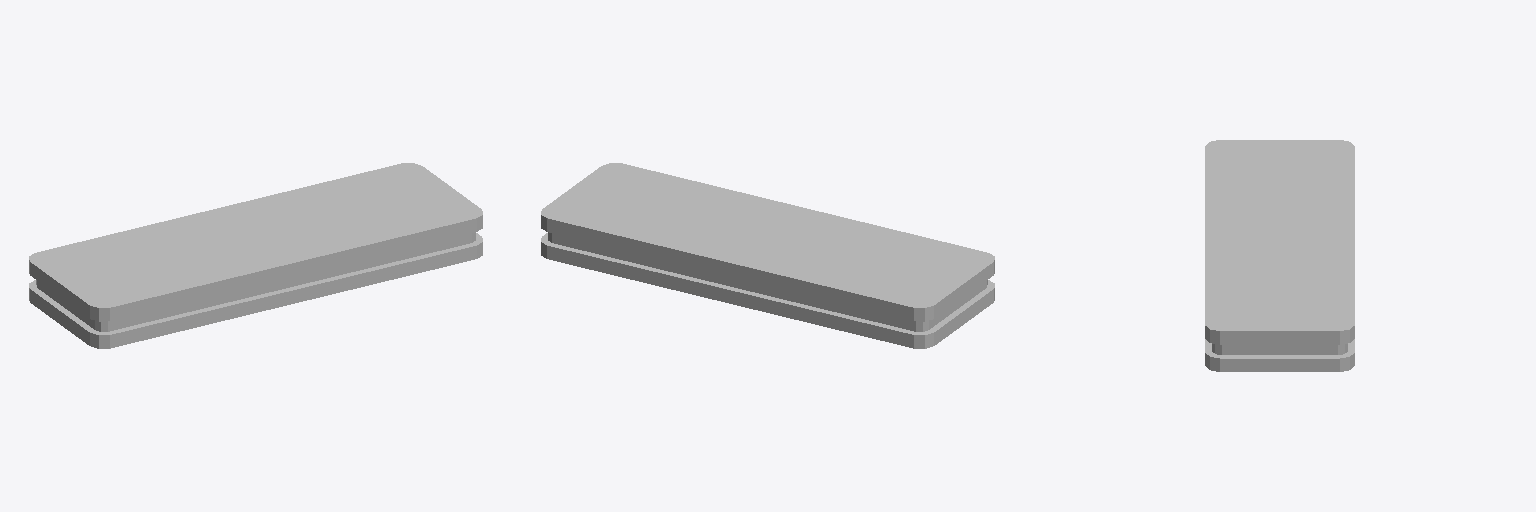
The model's file is seesaw.obj.
The picture shows the model from 3 angles: view 1: azimuth 30°, elevation 25°; view 2: azimuth 150°, elevation 25°; view 3: azimuth 270°, elevation 25°; orthographic projection.
Visible parts, largest first — view 1: block-moving; view 2: block-moving; view 3: block-moving.
Part boxes in pixels (x1,y1,x2,y2): block-moving: (29,163,482,348); block-moving: (541,163,994,348); block-moving: (1205,140,1354,371).
Size of the model in its own units: 3.02 by 0.3 by 1.